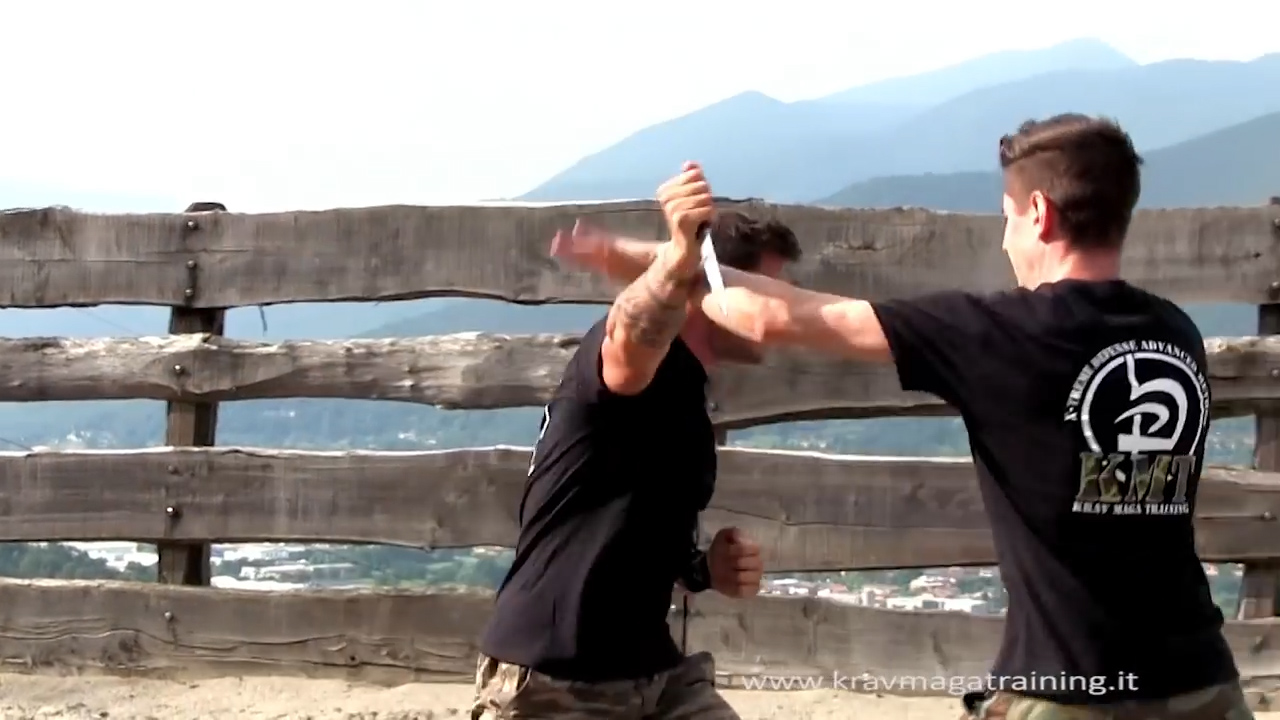knife: (650, 153, 739, 329)
